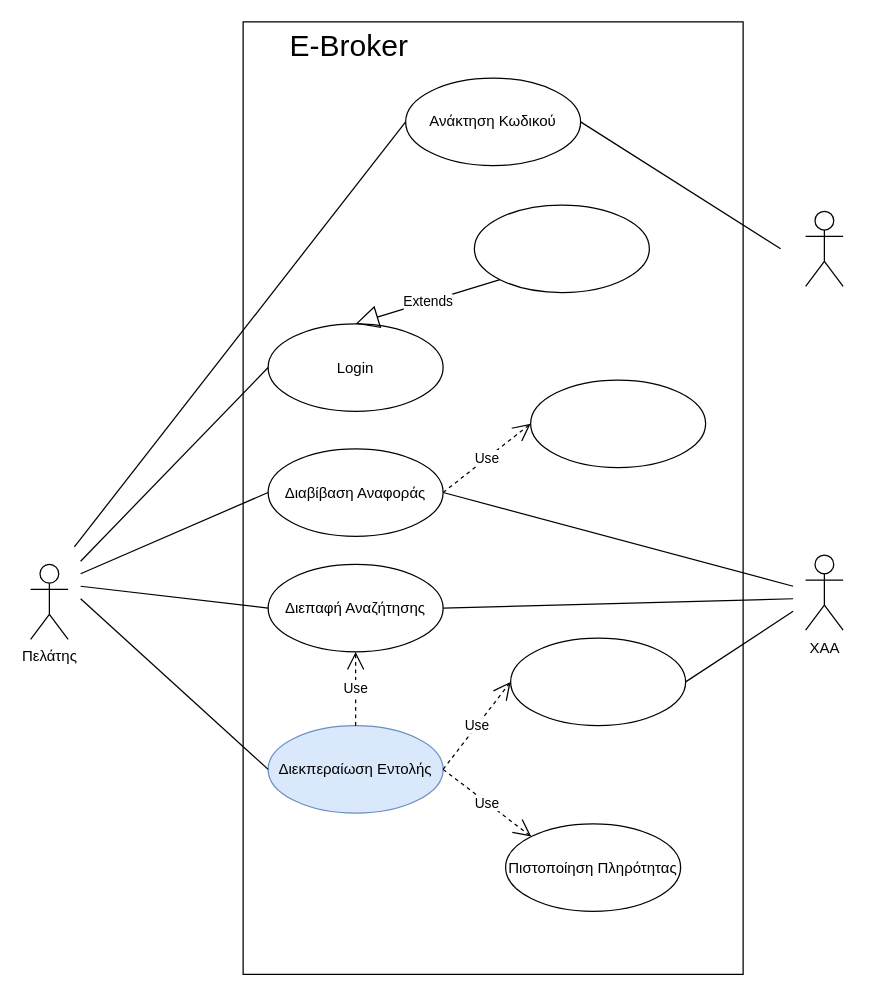
Some shapes in this 871 by 996 pixel diagram are drawn without their labels. Here are the shapes that lost their labels. From the top down, the box of each, then its label:
(473, 204, 649, 292): Login με προτροπή Ανάκτησης
(804, 210, 843, 286): Support
(529, 379, 706, 468): Ενημέρωση Μερίδων
(509, 637, 686, 726): Διαβίβαση Εντολής
